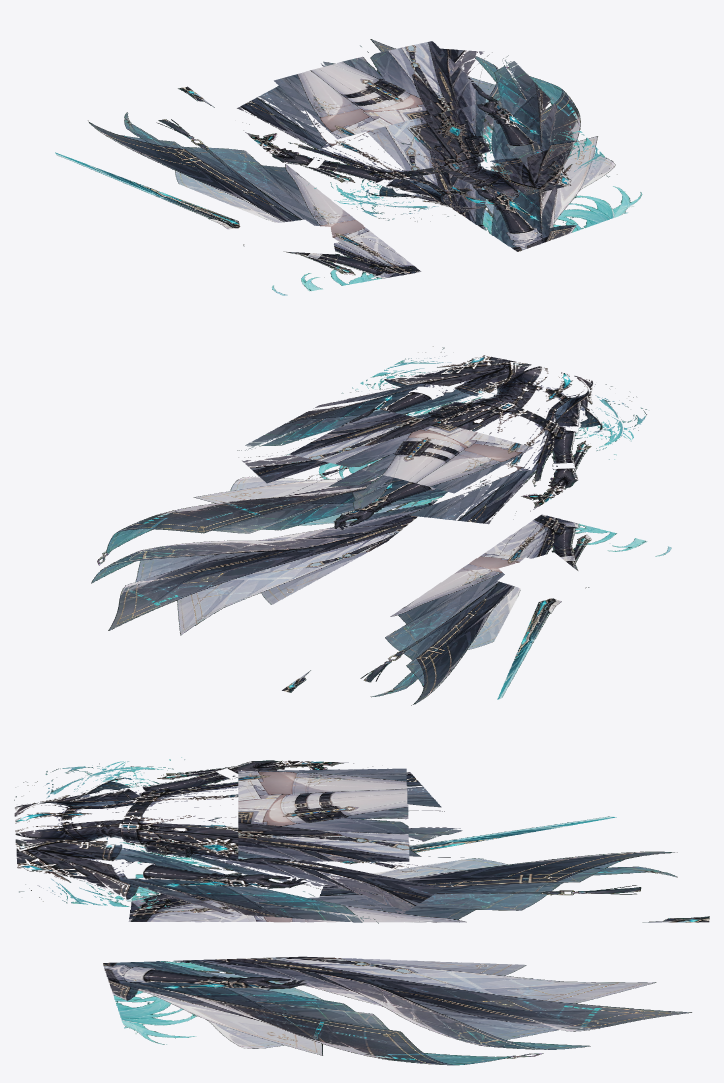
The model's file is yuna_semantic_layer_v9_cloth.obj.
The picture shows the model from 3 angles, top to bottom: view 1: azimuth 30°, elevation 25°; view 2: azimuth 150°, elevation 25°; view 3: azimuth 270°, elevation 25°; orthographic projection. The views are drawn at different scales.
Visible parts, largest first — view 1: jacket_outer_cloth_seam_surface_v0, cape_left_cloth_seam_surface_v0, cape_right_cloth_seam_surface_v0, skirt_front_cloth_seam_surface_v0; view 2: cape_right_cloth_seam_surface_v0, jacket_outer_cloth_seam_surface_v0, cape_left_cloth_seam_surface_v0, skirt_front_cloth_seam_surface_v0; view 3: cape_right_cloth_seam_surface_v0, jacket_outer_cloth_seam_surface_v0, cape_left_cloth_seam_surface_v0, skirt_front_cloth_seam_surface_v0.
Part boxes in pixels (x1,y1,x2,y2): jacket_outer_cloth_seam_surface_v0: (237, 45, 617, 221); cape_left_cloth_seam_surface_v0: (55, 86, 421, 295); cape_right_cloth_seam_surface_v0: (366, 39, 642, 251); skirt_front_cloth_seam_surface_v0: (274, 41, 492, 139); cape_right_cloth_seam_surface_v0: (91, 453, 447, 635); jacket_outer_cloth_seam_surface_v0: (237, 346, 646, 524); cape_left_cloth_seam_surface_v0: (282, 514, 671, 705); skirt_front_cloth_seam_surface_v0: (289, 408, 533, 493); cape_right_cloth_seam_surface_v0: (103, 956, 691, 1065); jacket_outer_cloth_seam_surface_v0: (14, 757, 483, 923); cape_left_cloth_seam_surface_v0: (128, 816, 709, 922); skirt_front_cloth_seam_surface_v0: (238, 768, 409, 861).
Size of the model in its own units: 3.91 by 0.9775 by 4.49.
4 materials, 4 textured.
